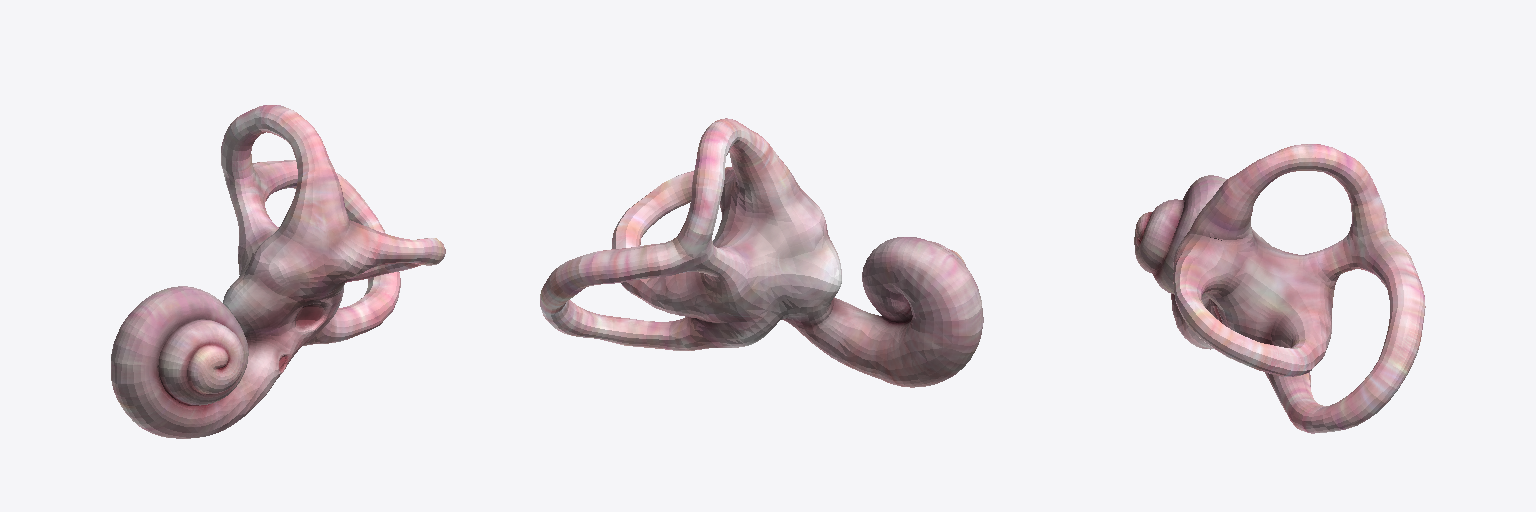
3 renders of one model, left to right at view 1: azimuth 30°, elevation 25°; view 2: azimuth 150°, elevation 25°; view 3: azimuth 270°, elevation 25°, orthographic.
Visible parts, largest first — view 1: aaaaa; view 2: aaaaa; view 3: aaaaa.
Part boxes in pixels (bbox=[...]): aaaaa: bbox=[111, 105, 445, 438]; aaaaa: bbox=[540, 118, 983, 387]; aaaaa: bbox=[1134, 144, 1425, 433].
Bounding box in the file's own units: 8.7 × 6.08 × 6.21.
Materials: 1 (1 with a texture image).